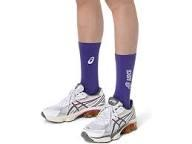asics logo: (65, 94, 106, 117), (109, 110, 136, 137)
sock logo: (79, 43, 101, 86), (116, 55, 135, 101)
